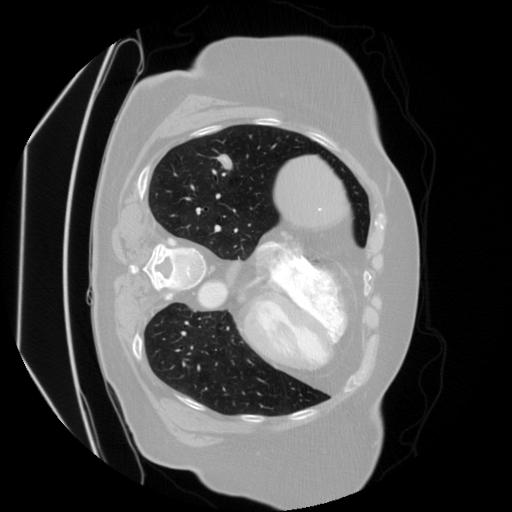nodule: (218, 153, 239, 174)
